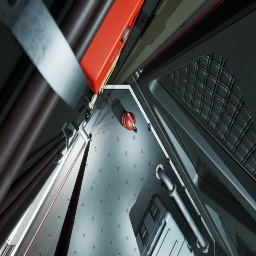EmergencyPhone ,: (83, 52, 121, 123)
FireAlarm ,: (80, 0, 144, 95)
FireExtinguisher ]: (120, 111, 137, 133)
